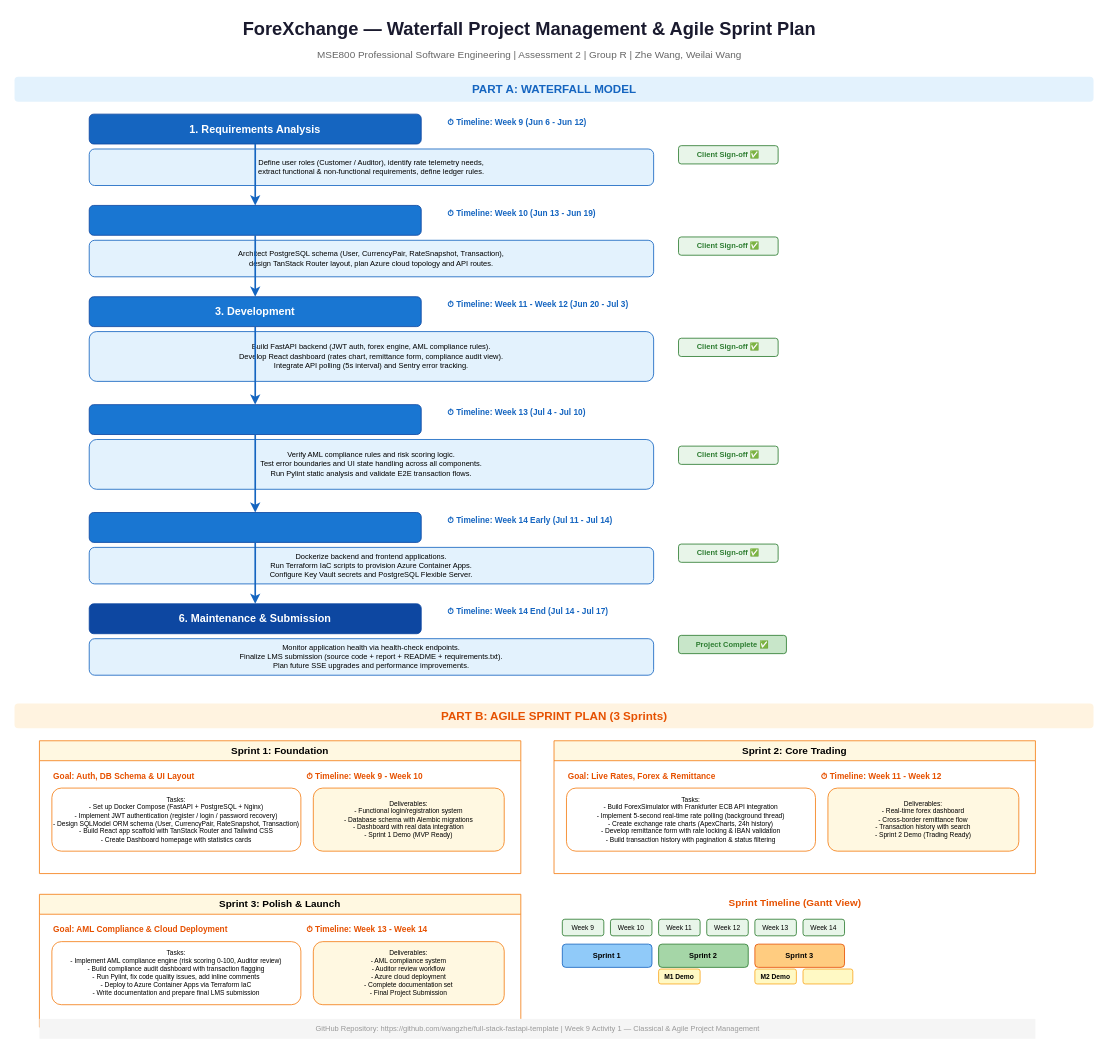
Some shapes in this 1107 by 1052 pixel diagram are drawn without their labels. Each missing label, with the centre of its shape:
"2. System Design" goes at [254,220].
"4. Testing & Validation" goes at [254,419].
"5. Deployment" goes at [254,527].
"Final Submit" goes at [827,976].
